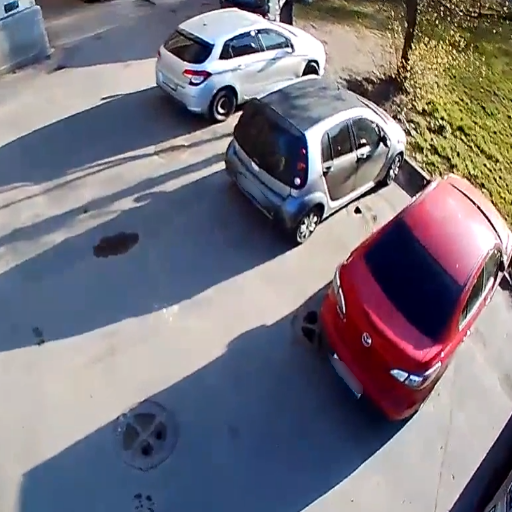Car: (322, 173, 509, 421), (224, 81, 407, 243), (155, 4, 323, 118)
